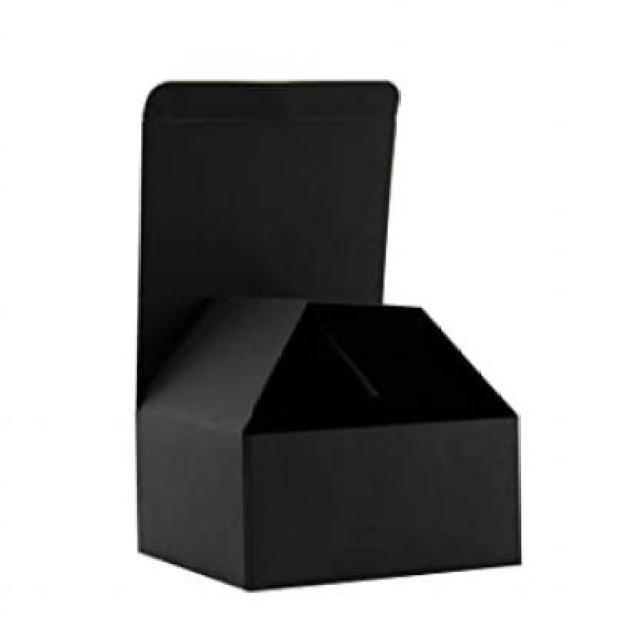box: (123, 53, 534, 628)
